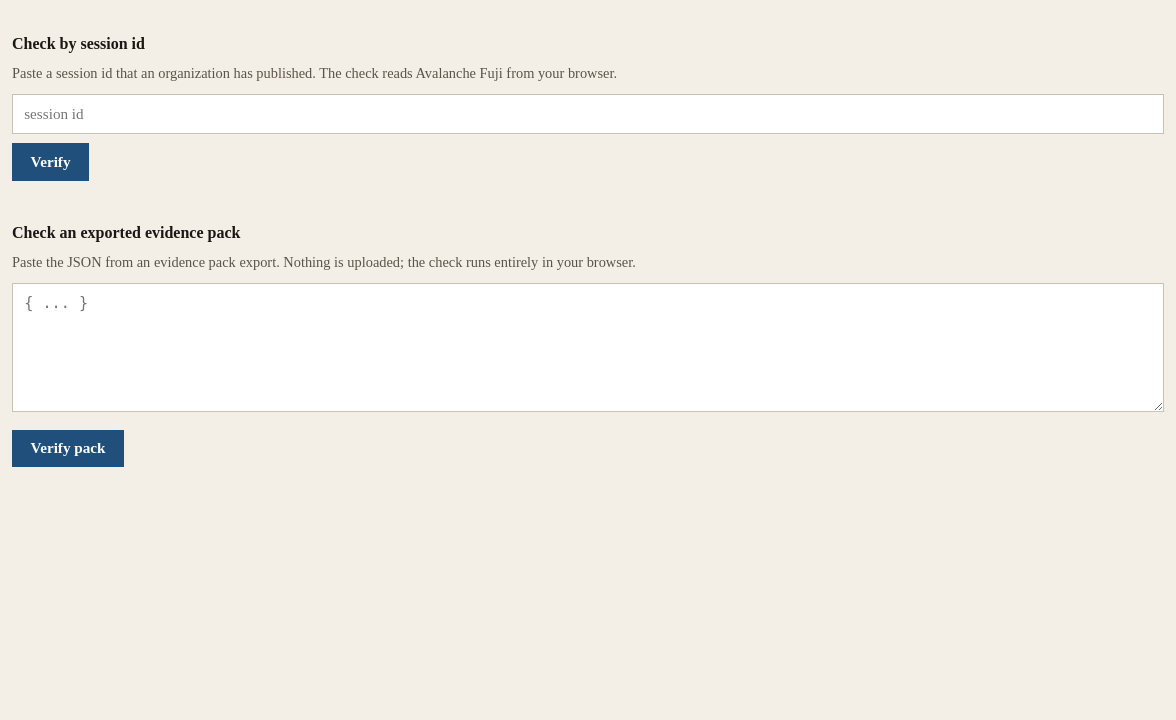
Test: VerifyClient › does not verify when the API bundle reports a different chain id
The width and height of the screenshot is (1176, 720).
Type "s1" into the field labelled "Check by session id" at (588, 114), box [12,94,1164,134]
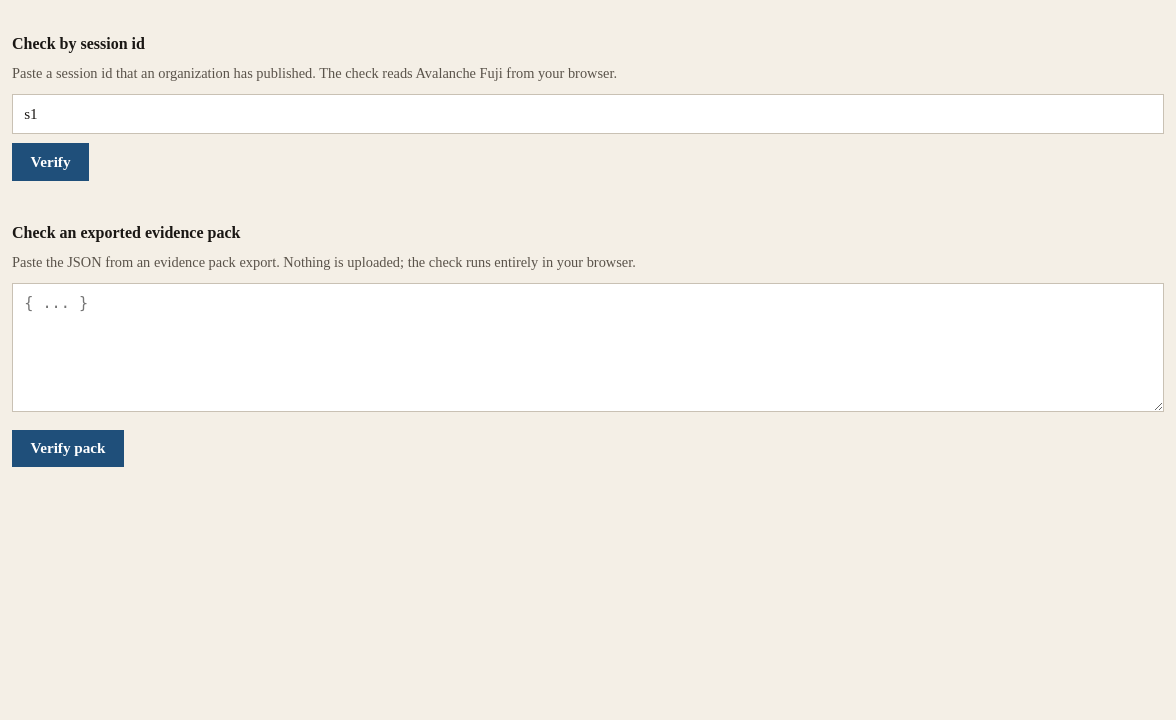
Click the button "Verify" at (51, 162), box [12,143,89,181]
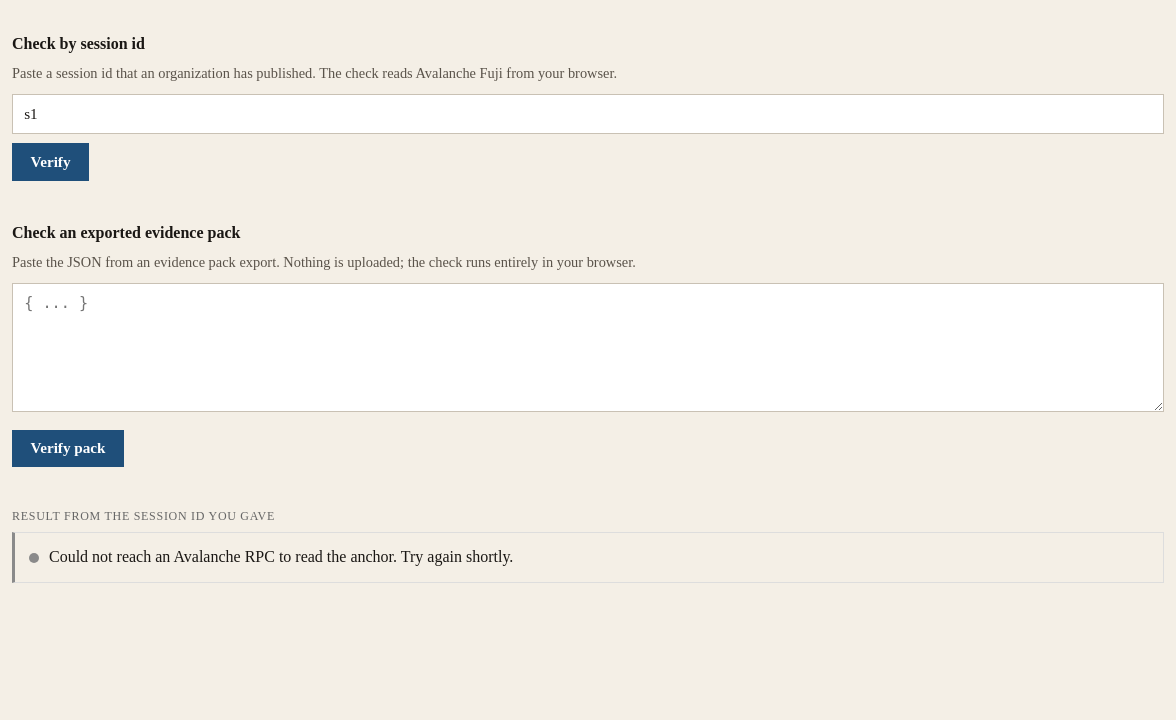
Check: the text "Could not reach an Avalanche RPC" is shown, box [49,548,513,565]
